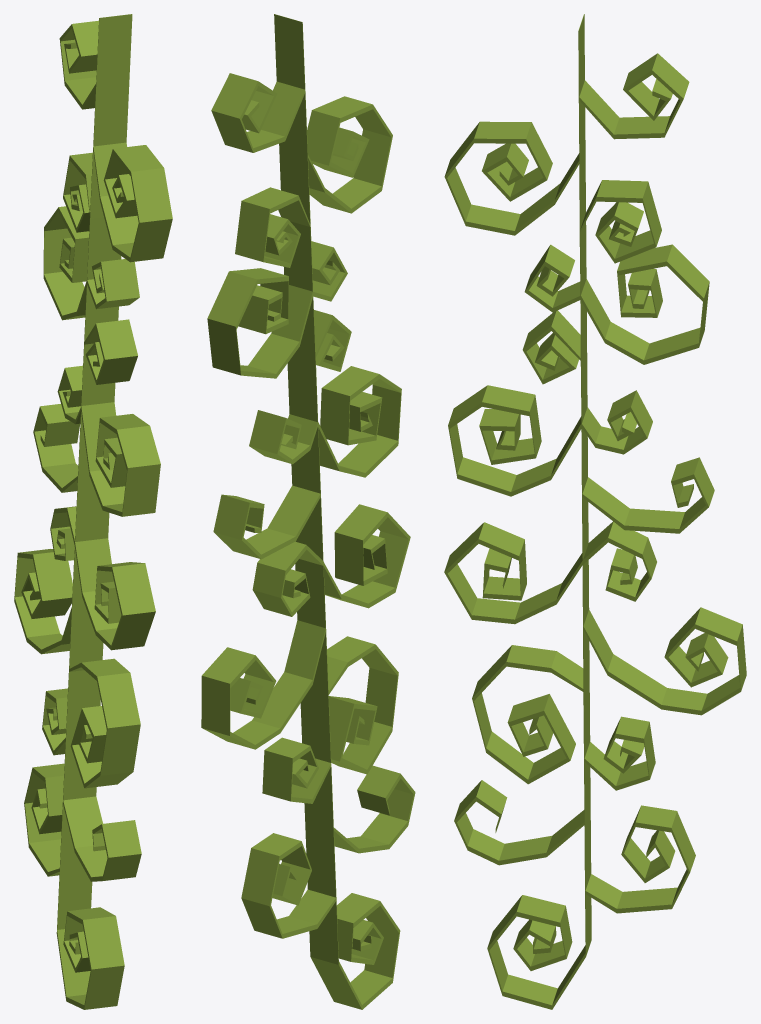
The model's file is ЛианаЕбаная.fbx.
3 views of the same model, side by side, from view 1: azimuth 30°, elevation 25°; view 2: azimuth 150°, elevation 25°; view 3: azimuth 270°, elevation 25° (orthographic). The views are drawn at different scales.
Parts seen in each view (by area): view 1: Plane.038; view 2: Plane.038; view 3: Plane.038.
Part boxes in pixels (x1=…): Plane.038: x1=14, y1=14, x2=172, y2=1009; Plane.038: x1=201, y1=14, x2=415, y2=1009; Plane.038: x1=444, y1=14, x2=746, y2=1009.
Bounding box in the file's own units: 14.95 × 148 × 40.47.
